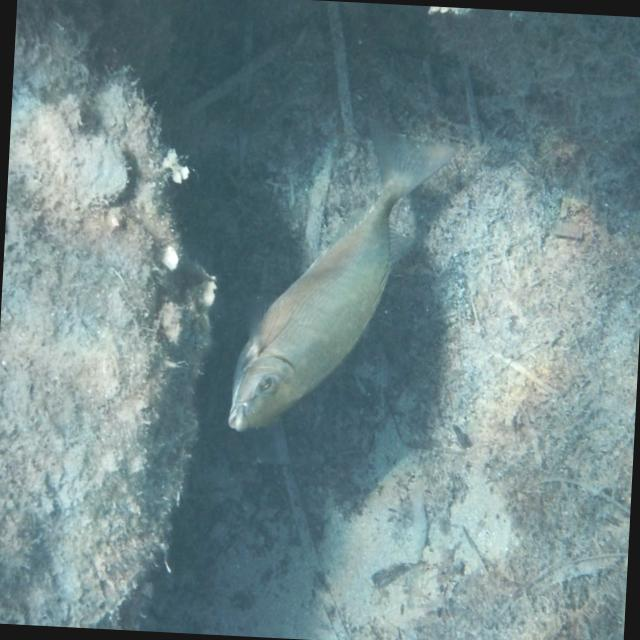Sokar Baligi: (220, 105, 463, 450)
